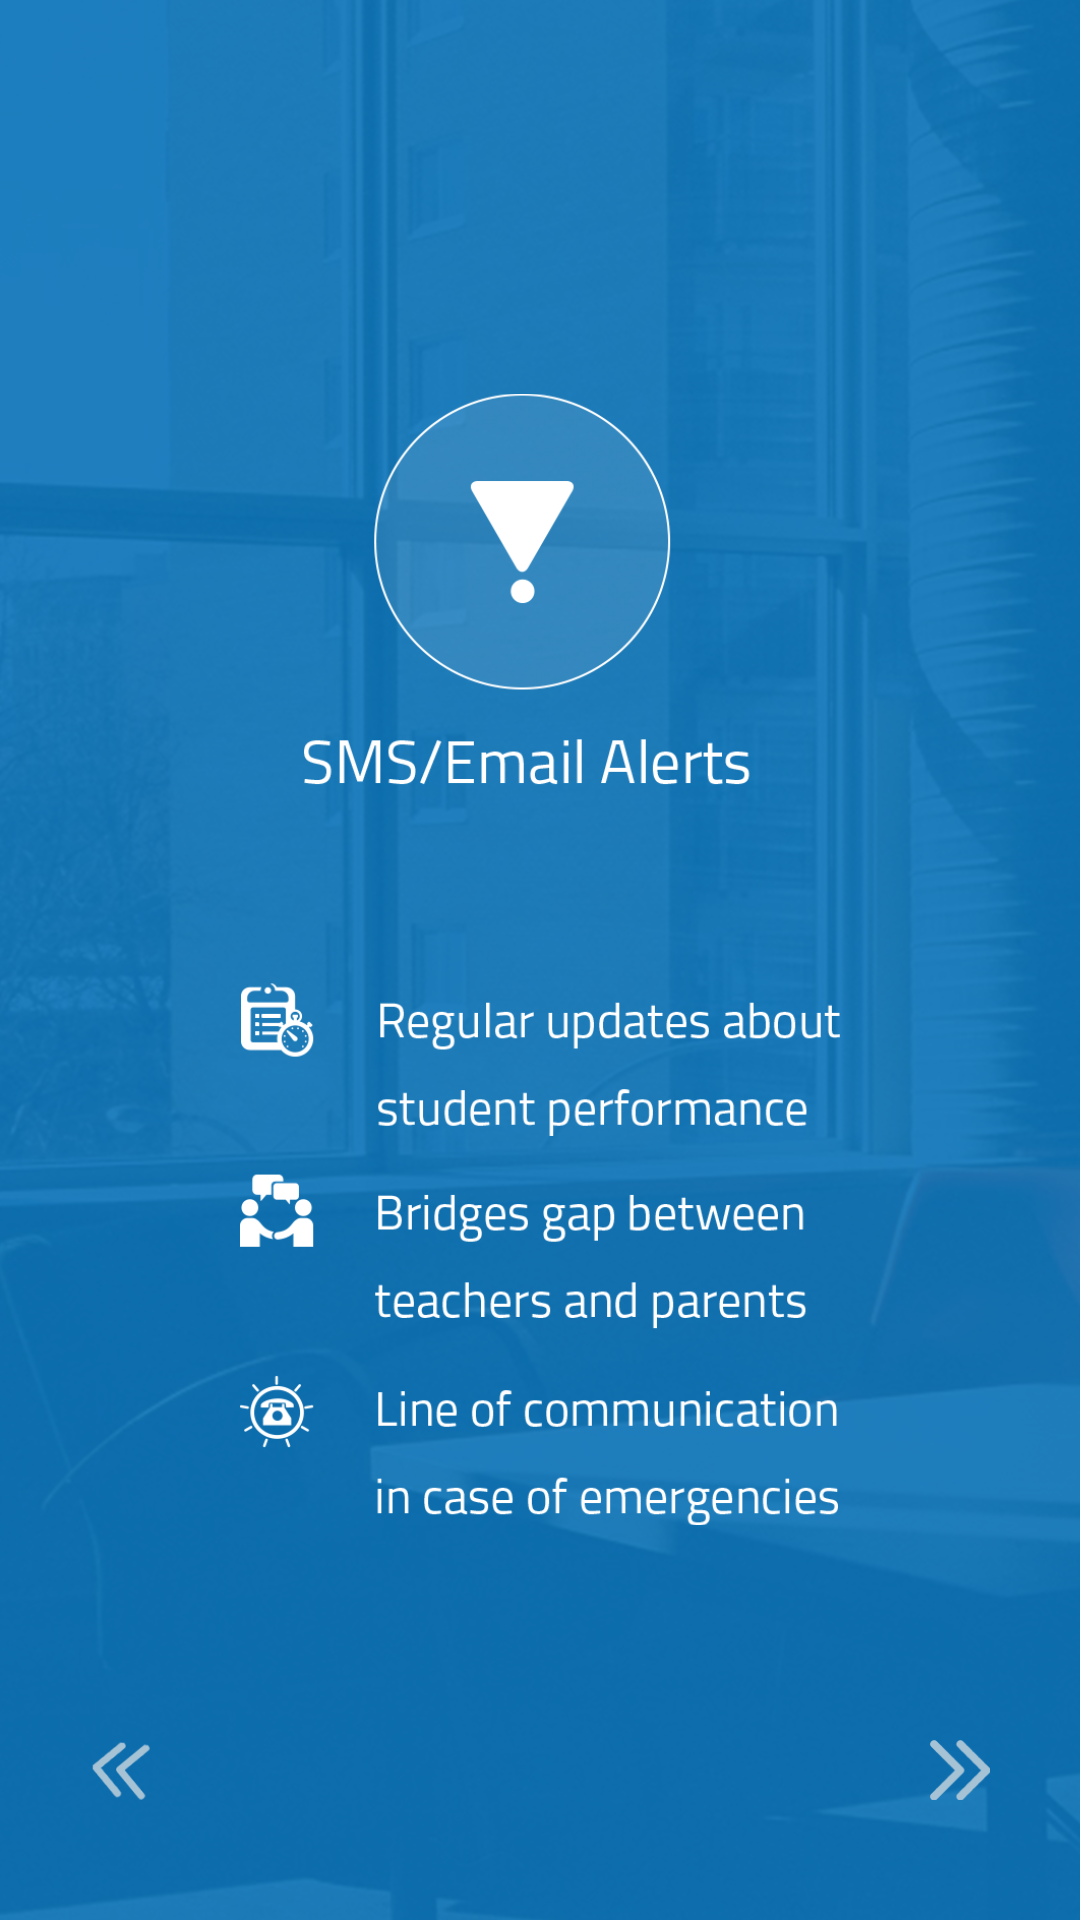

Icons on this 1080px×1920px Android screen, each with the point to tap as (x,y):
arrowsnext: (960,1770)
arrowsprev: (121,1771)
